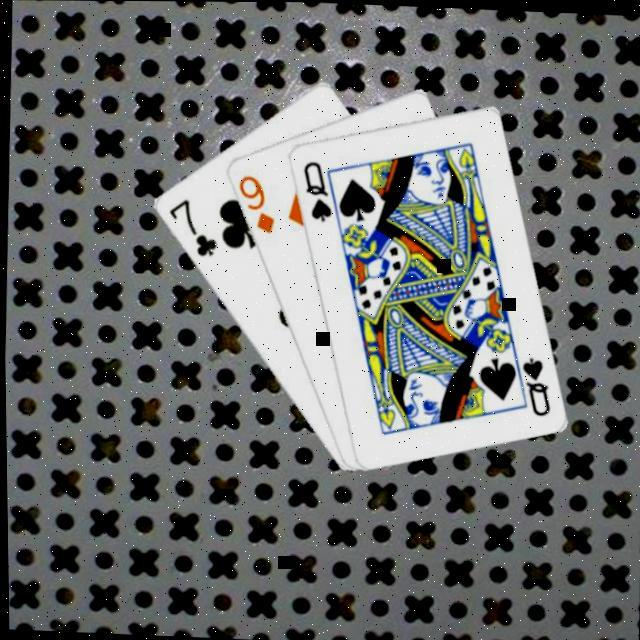7C: (160, 196, 219, 262)
9D: (229, 172, 276, 237)
QS: (294, 157, 333, 225), (513, 354, 552, 420)
